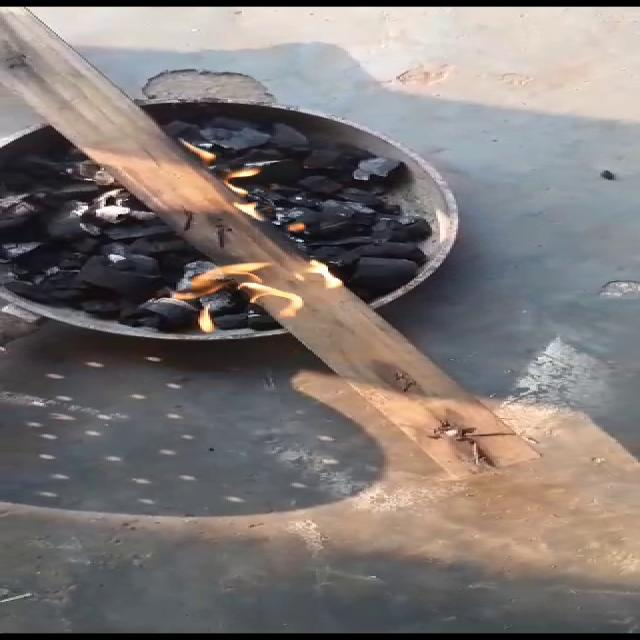Fire: (130, 148, 350, 346)
